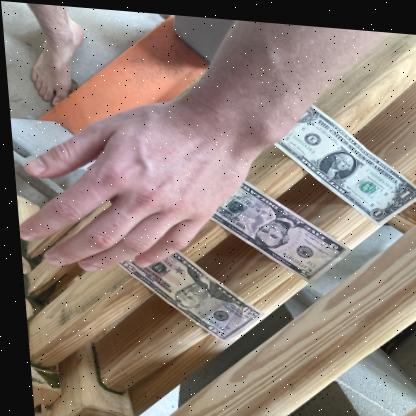fifty-front: (114, 244, 267, 346)
five-front: (206, 179, 352, 288)
one-front: (269, 102, 415, 228)
